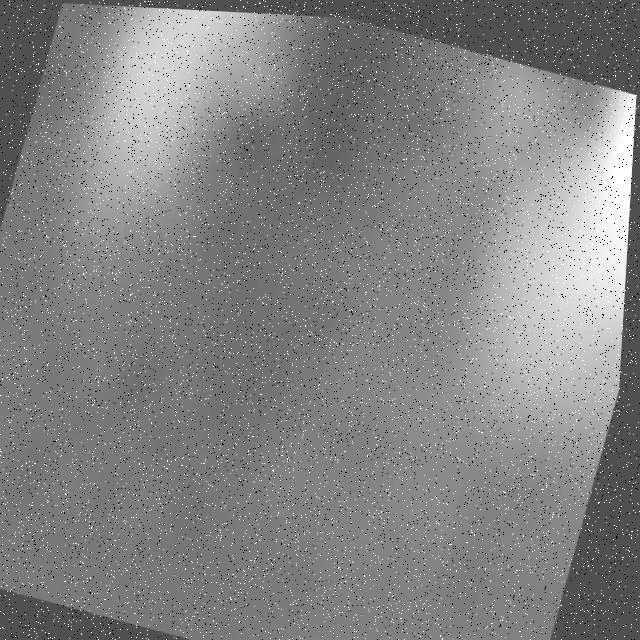person: (2, 2, 315, 329), (448, 63, 639, 514)
